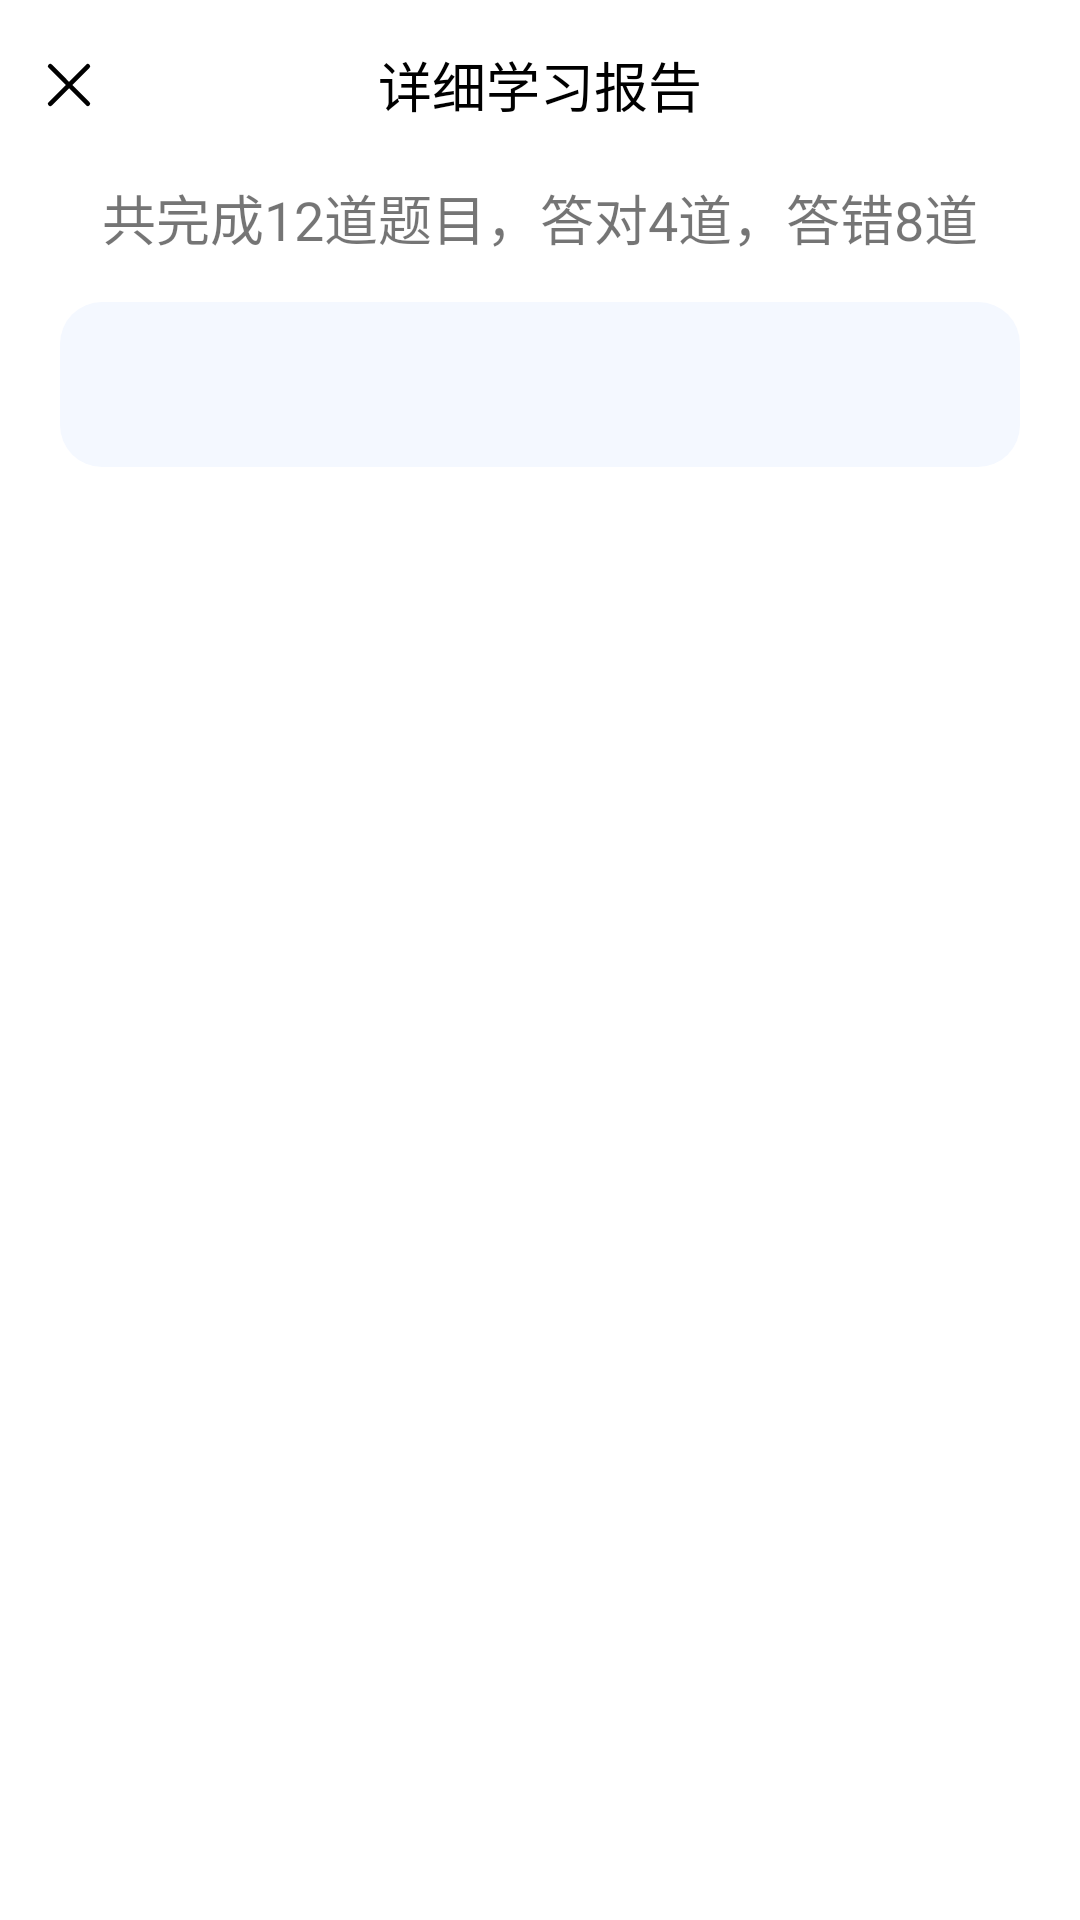

Where icons sit on this 1080px x 1920px app screen, as rect(x1, y1, x2, y2):
close: rect(47, 63, 91, 107)
